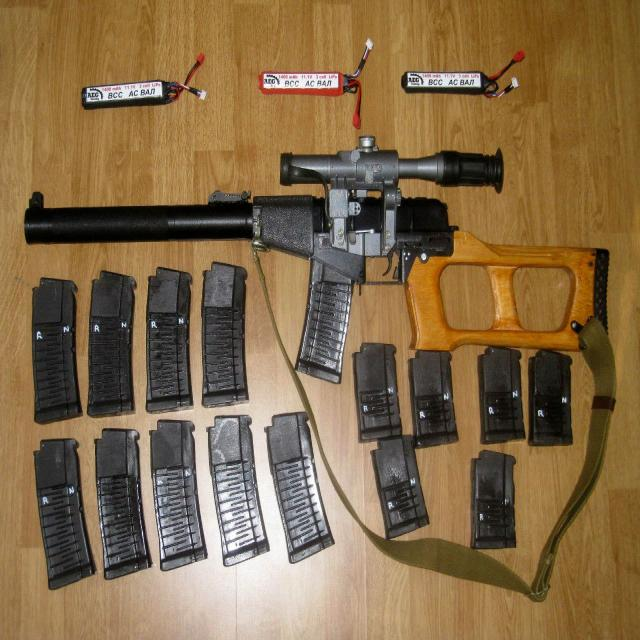firearm: (24, 135, 612, 386)
